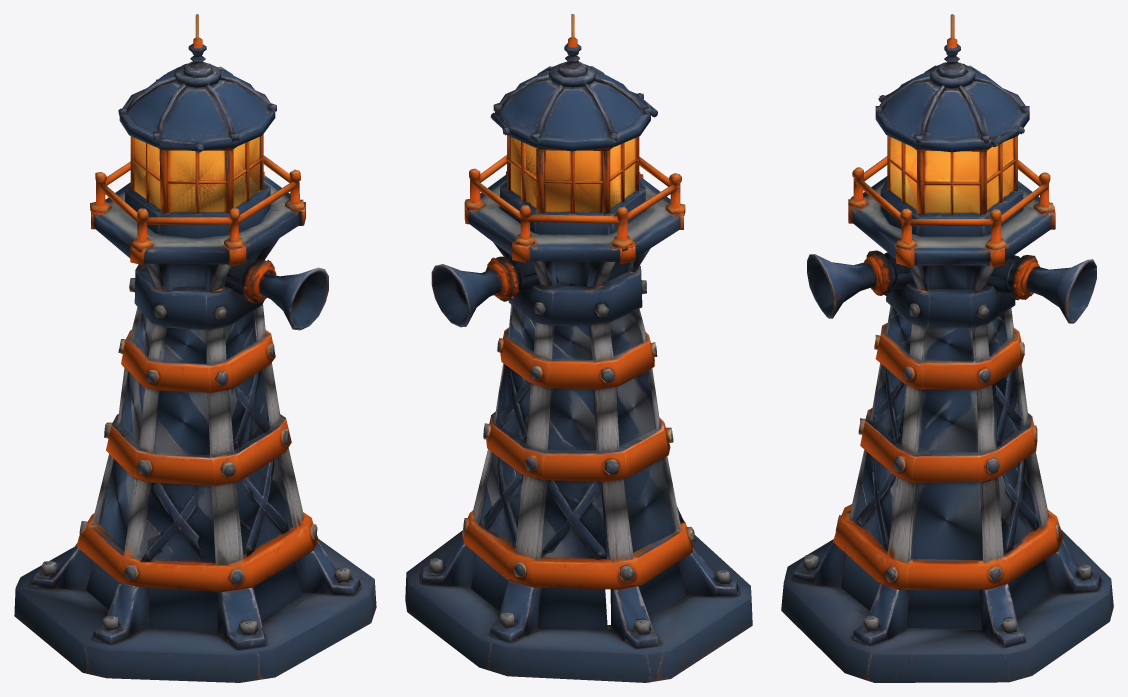
The picture shows the model from 3 angles, left to right: view 1: azimuth 30°, elevation 25°; view 2: azimuth 150°, elevation 25°; view 3: azimuth 270°, elevation 25°; orthographic projection.
Visible parts, largest first — view 1: tripo_node_9e1765b3-b672-4733-a6c9-1bff09ffba17; view 2: tripo_node_9e1765b3-b672-4733-a6c9-1bff09ffba17; view 3: tripo_node_9e1765b3-b672-4733-a6c9-1bff09ffba17.
Boxes of the visible parts, x1,y1,x2,y2 form: tripo_node_9e1765b3-b672-4733-a6c9-1bff09ffba17: [14, 14, 376, 682]; tripo_node_9e1765b3-b672-4733-a6c9-1bff09ffba17: [405, 14, 752, 682]; tripo_node_9e1765b3-b672-4733-a6c9-1bff09ffba17: [781, 14, 1113, 682].
Bounding box in the file's own units: 0.6035 × 1.2 × 0.6035.
Materials: 1 (1 with a texture image).
